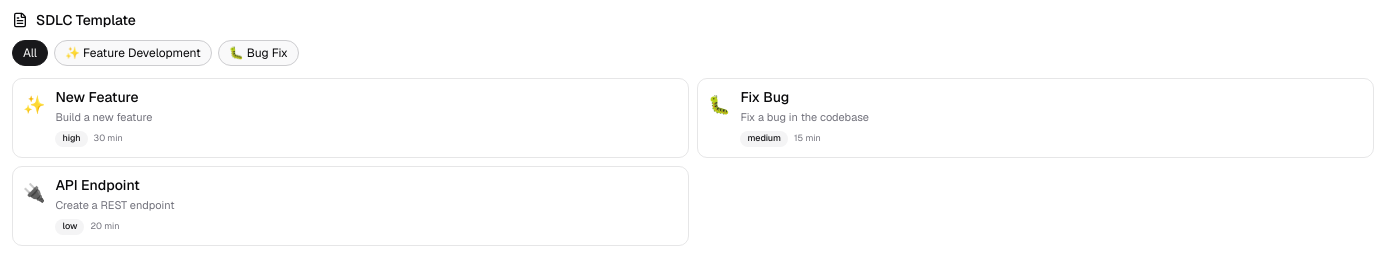
Scenario: TemplatePicker › clears selection when Clear is clicked
Click the text "Fix Bug": [765, 97] box [740,88,789,106]
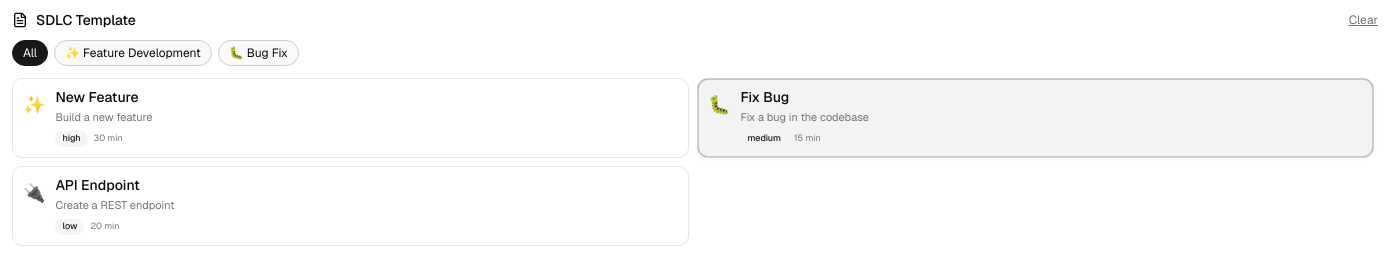
Check: the button "Clear" is shown
Click the button "Clear": [1363, 20] box [1349,12,1378,28]
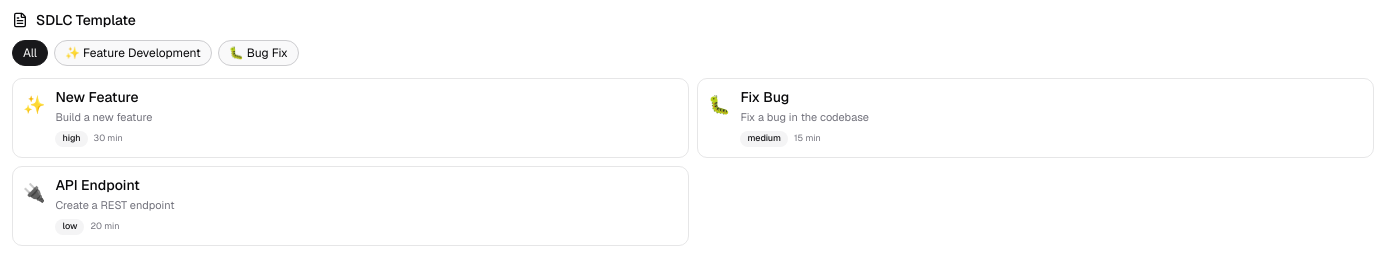
Check: the button "Clear" is gone
